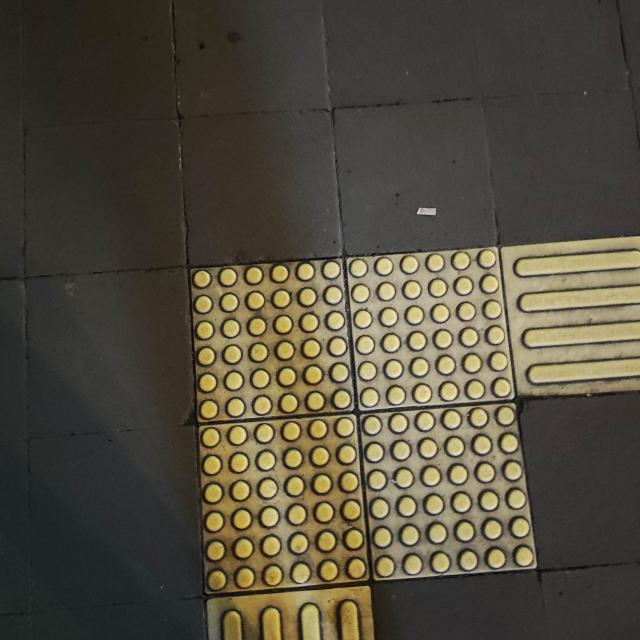kanan: (109, 205, 640, 640)
